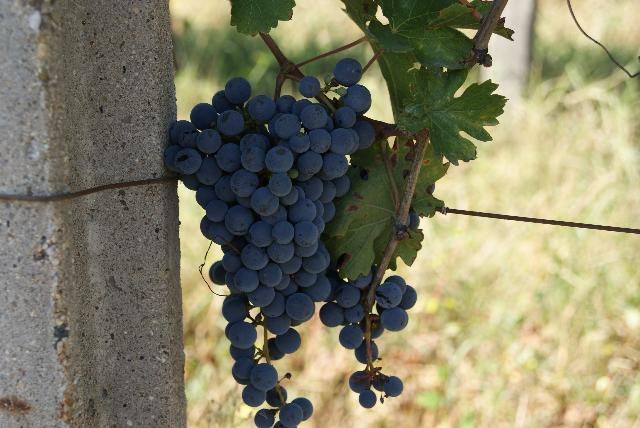grapes: (164, 78, 359, 428), (320, 276, 416, 409)
